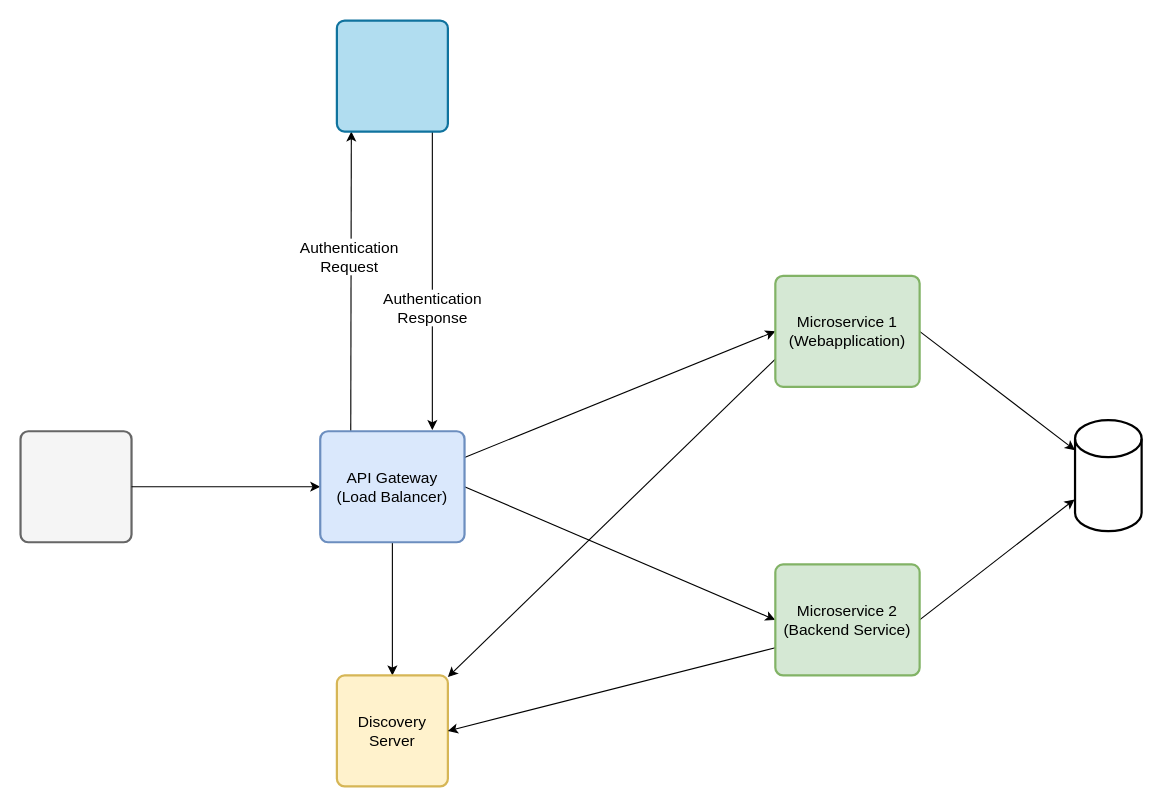
Image size: 1161x806. Some labels were removed from this diagram. Each missing label, with the centre of its shape:
"Azure AD" goes at (391,75).
"Client" goes at (75,486).
